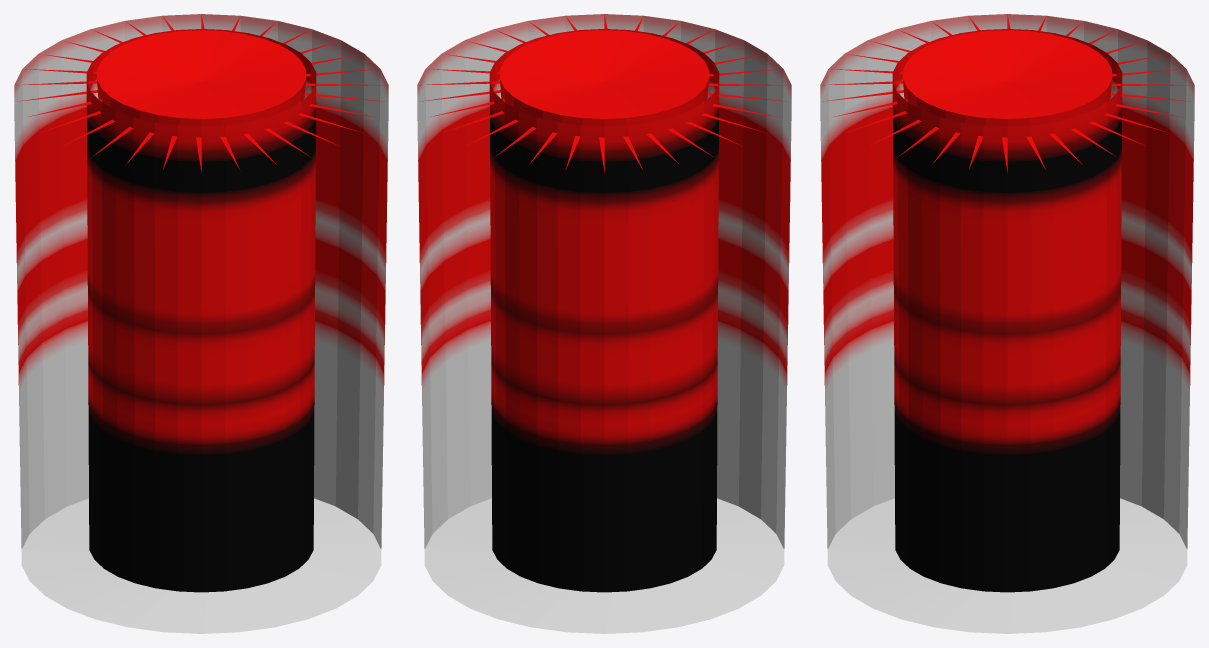
3 views of the same model, side by side, from view 1: azimuth 30°, elevation 25°; view 2: azimuth 150°, elevation 25°; view 3: azimuth 270°, elevation 25° (orthographic).
Parts seen in each view (by area): view 1: algeomath; view 2: algeomath; view 3: algeomath.
Boxes of the visible parts, left/top/right/bottom form: algeomath: left=14, top=14, right=388, bottom=633; algeomath: left=417, top=14, right=791, bottom=633; algeomath: left=820, top=14, right=1194, bottom=633.
Size of the model in its own units: 3.78 by 5.35 by 3.76.
1 material, 1 textured.
